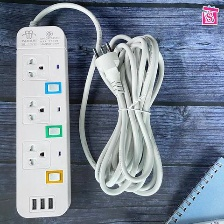three_eye_plug: (11, 14, 75, 222)
